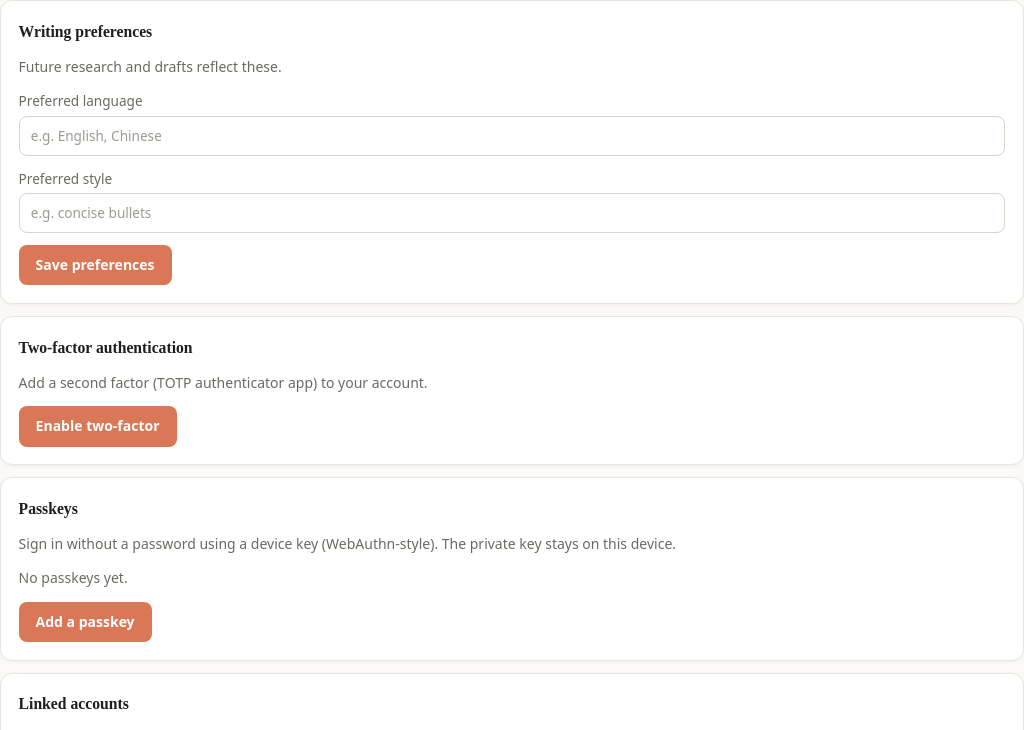
Test case: Settings page › enrolls in two-factor: enable → backup codes → confirm (S20)
The width and height of the screenshot is (1024, 730).
Click the button "Enable two-factor": point(98, 426) left=19, top=406, right=177, bottom=446
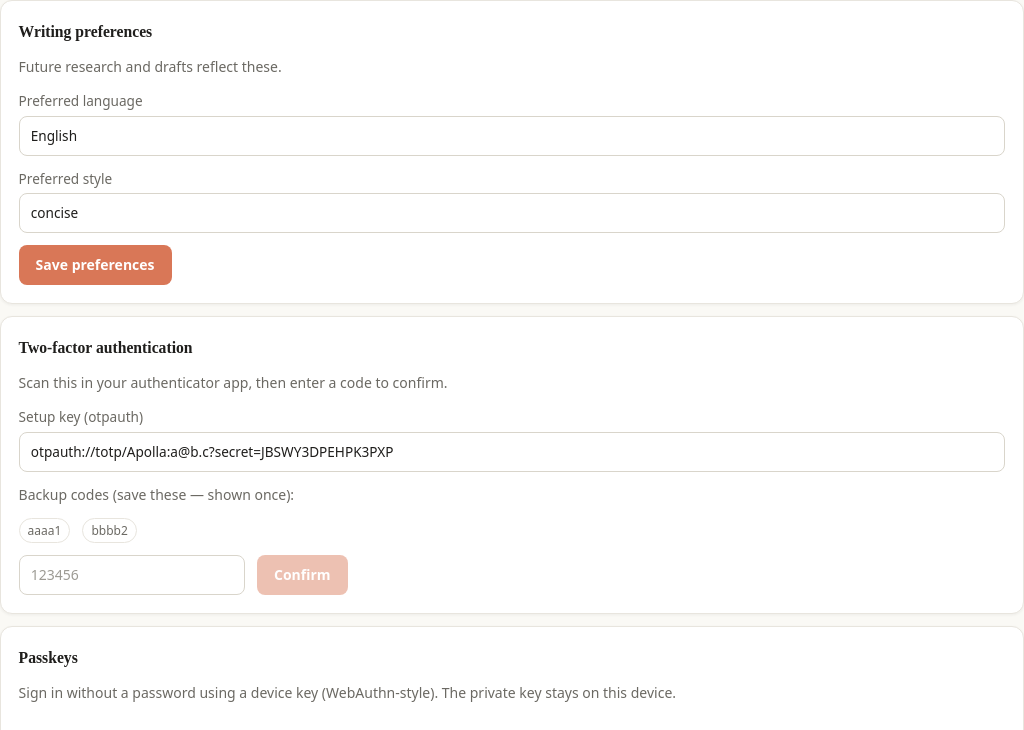
Now the text "aaaa1" is shown, box left=19, top=518, right=70, bottom=543
In the field with placeholder "123456": point(132, 575) left=19, top=555, right=245, bottom=595, type "111111"
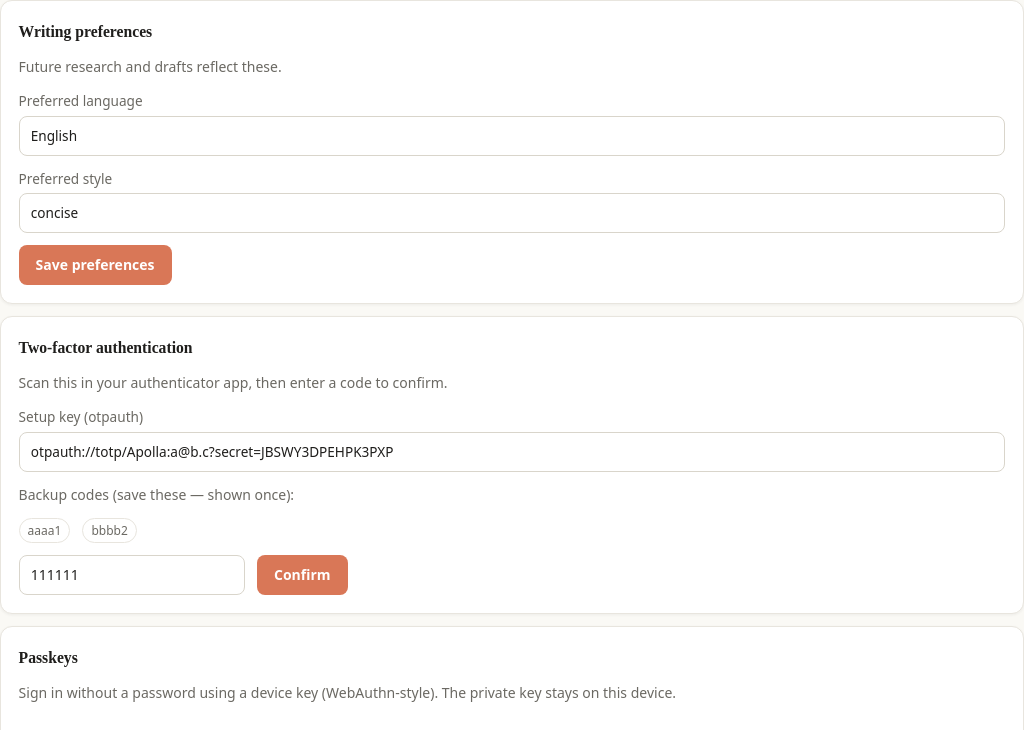
Click the button "Confirm": point(302, 575) left=257, top=555, right=348, bottom=595
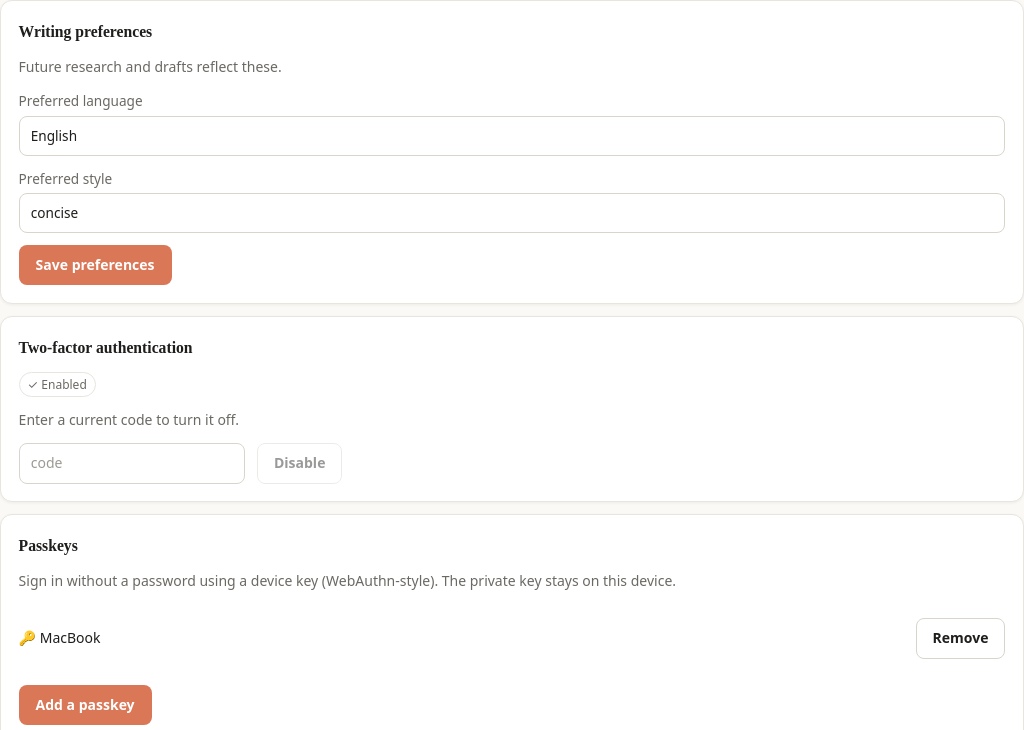
Now the text "✓ Enabled" is shown, box left=19, top=372, right=96, bottom=397
